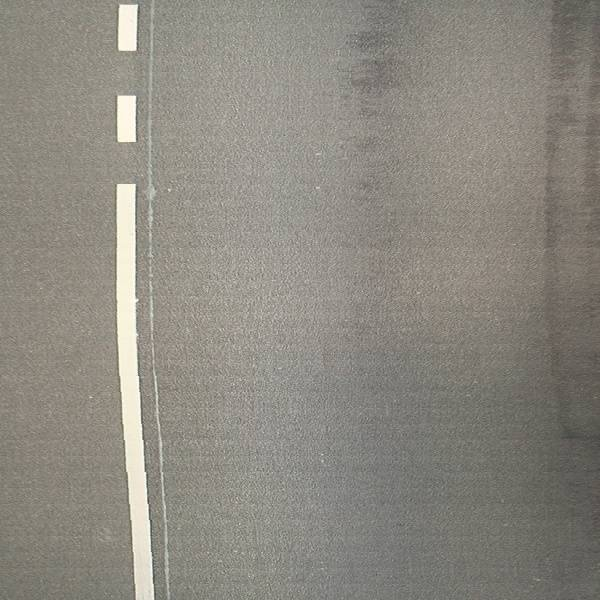road_damage: (144, 4, 163, 423)
